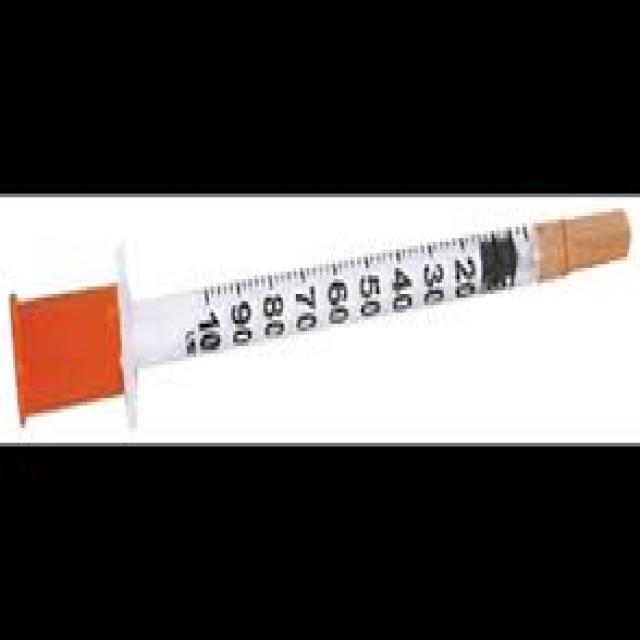syringe: (10, 196, 630, 435)
